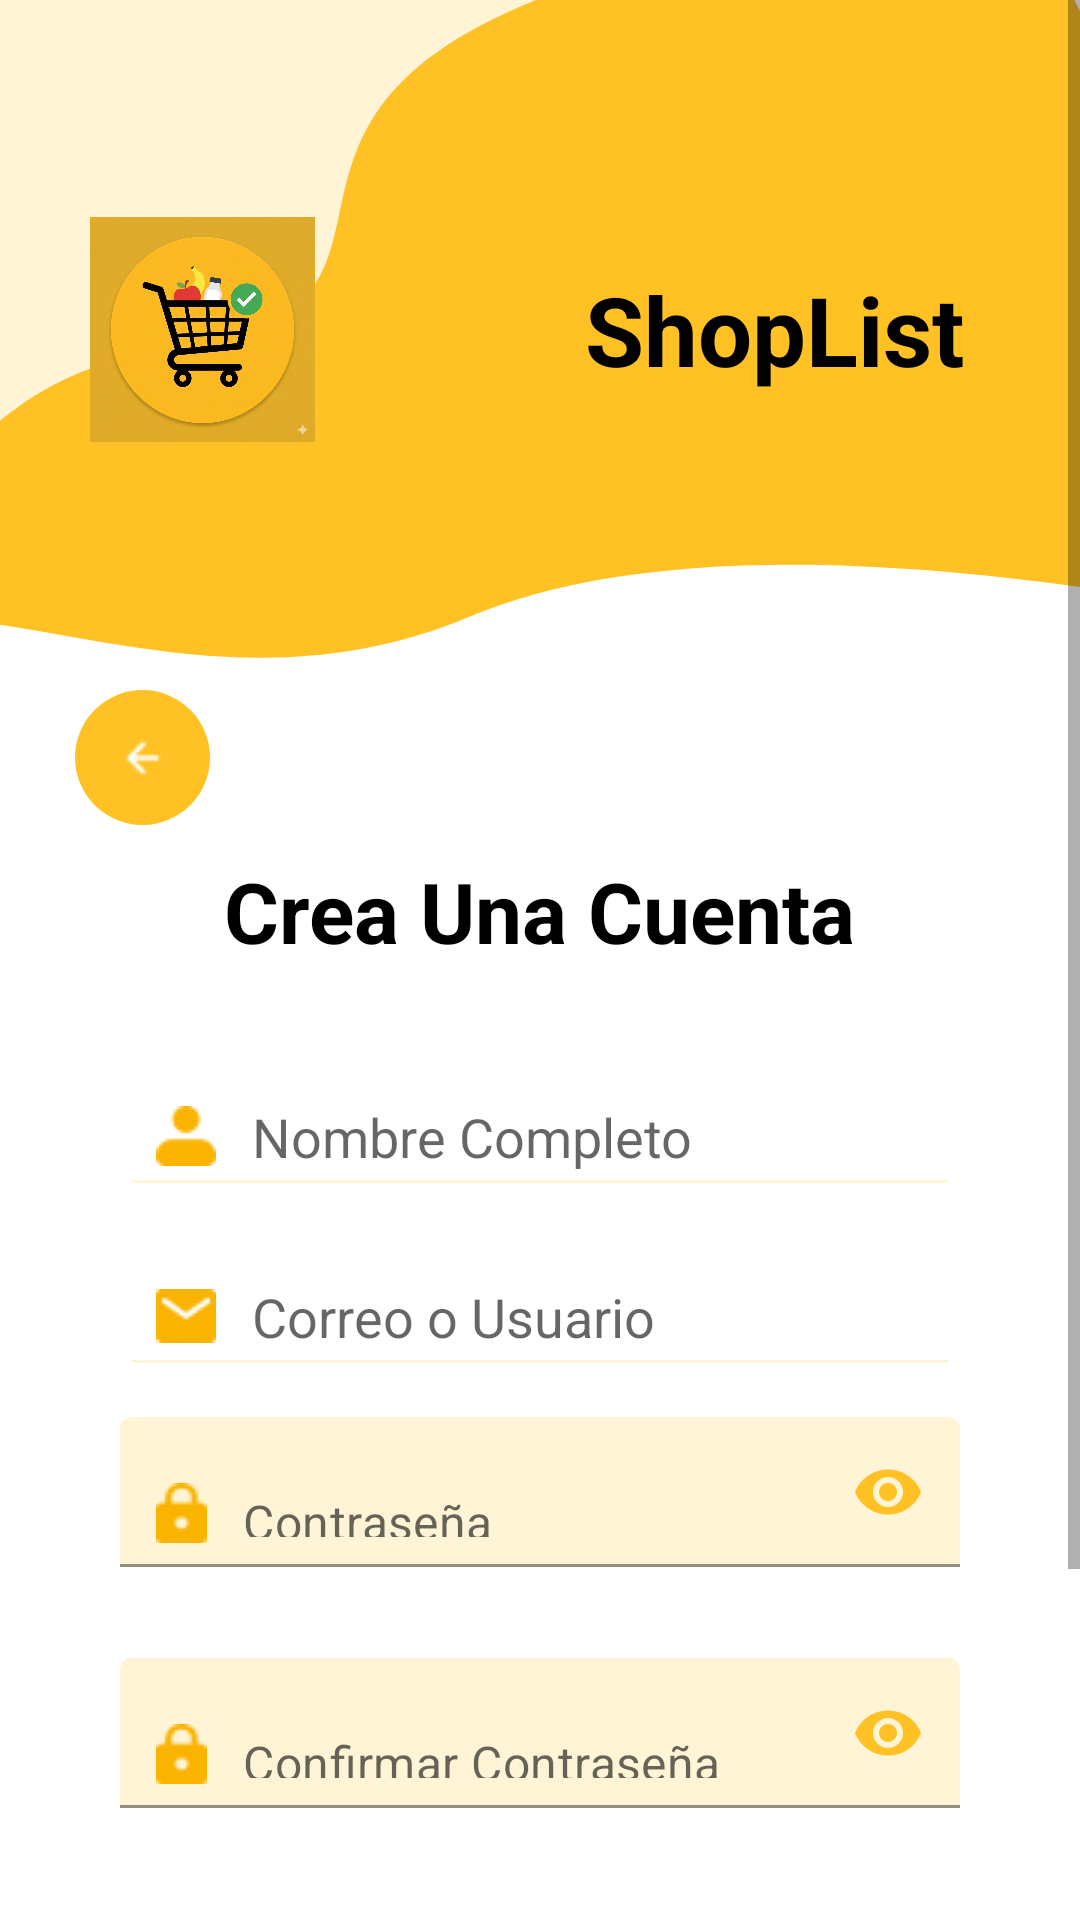

Screen size 1080*1920. Icon name, then its box in pixels as (x1, y1, x2, y2):
arrow left: (75, 690, 210, 825)
